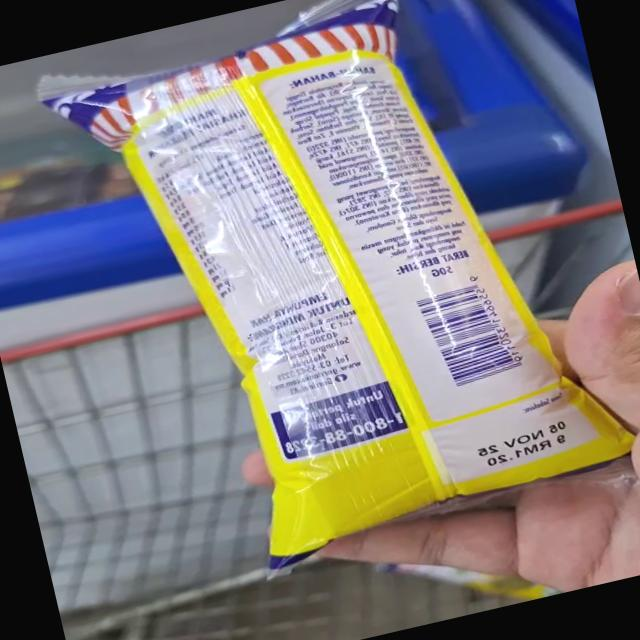Roti: (174, 204, 605, 596), (49, 0, 479, 358)
